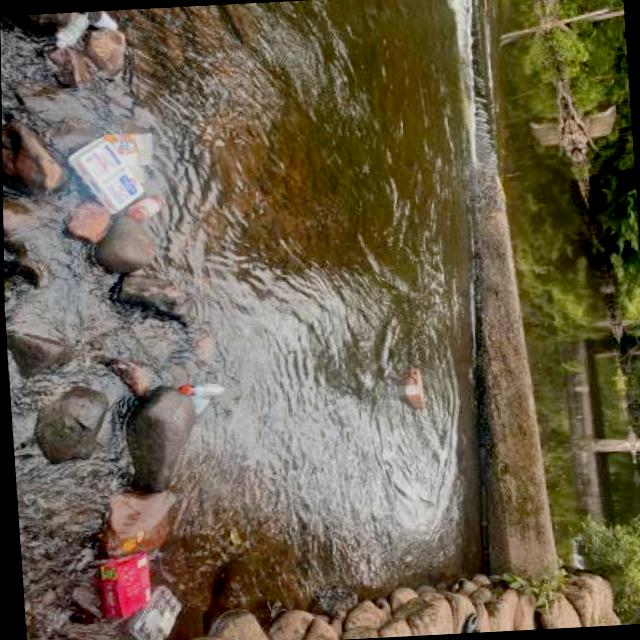Bottle-Glass: (125, 190, 170, 226)
Can-Metal: (82, 10, 124, 44)
Cardboard: (84, 544, 158, 624), (392, 360, 428, 416)
Plastic: (57, 125, 160, 224), (117, 580, 188, 640), (44, 12, 96, 61), (176, 382, 230, 413)
